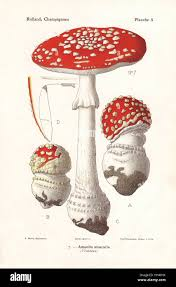Amanita muscaria: (28, 11, 148, 240), (99, 91, 155, 200), (25, 134, 74, 215)
